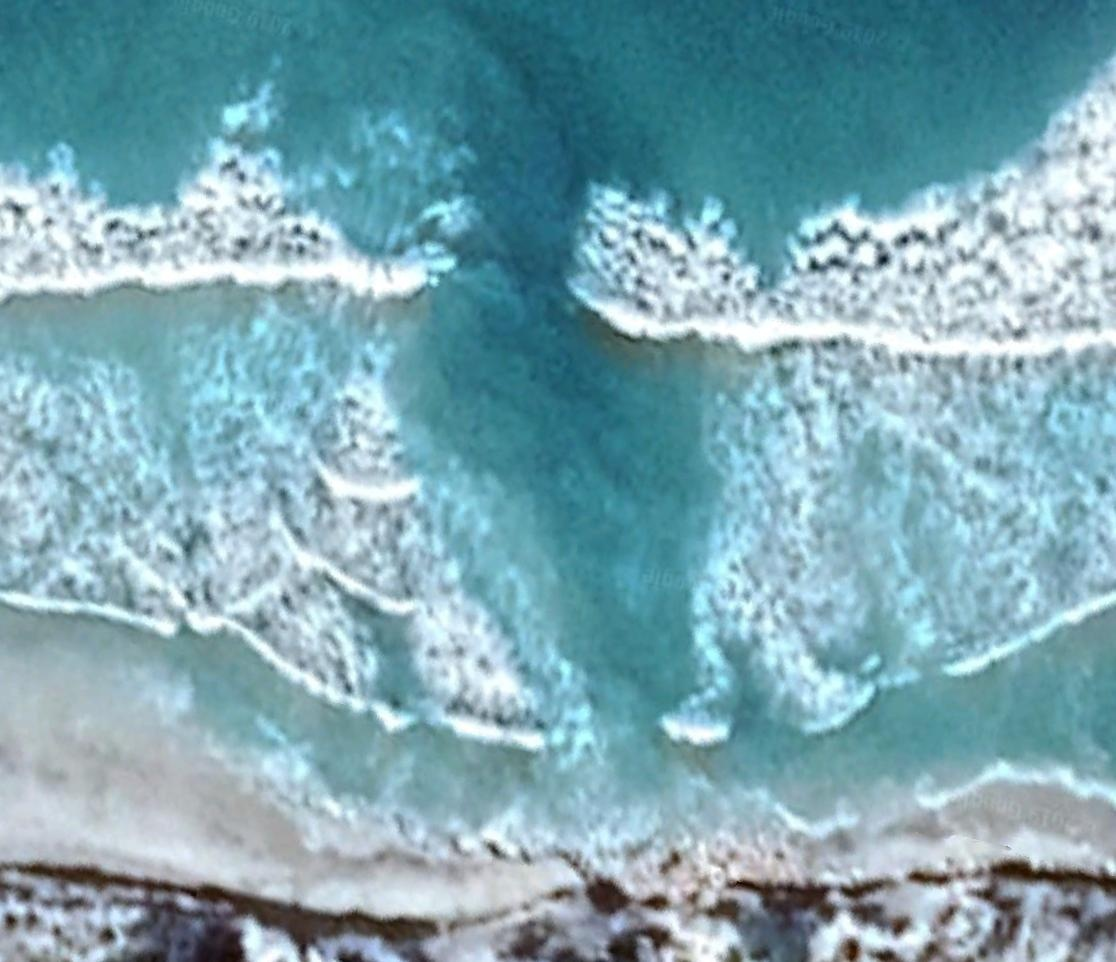rip_current: (335, 83, 743, 717)
